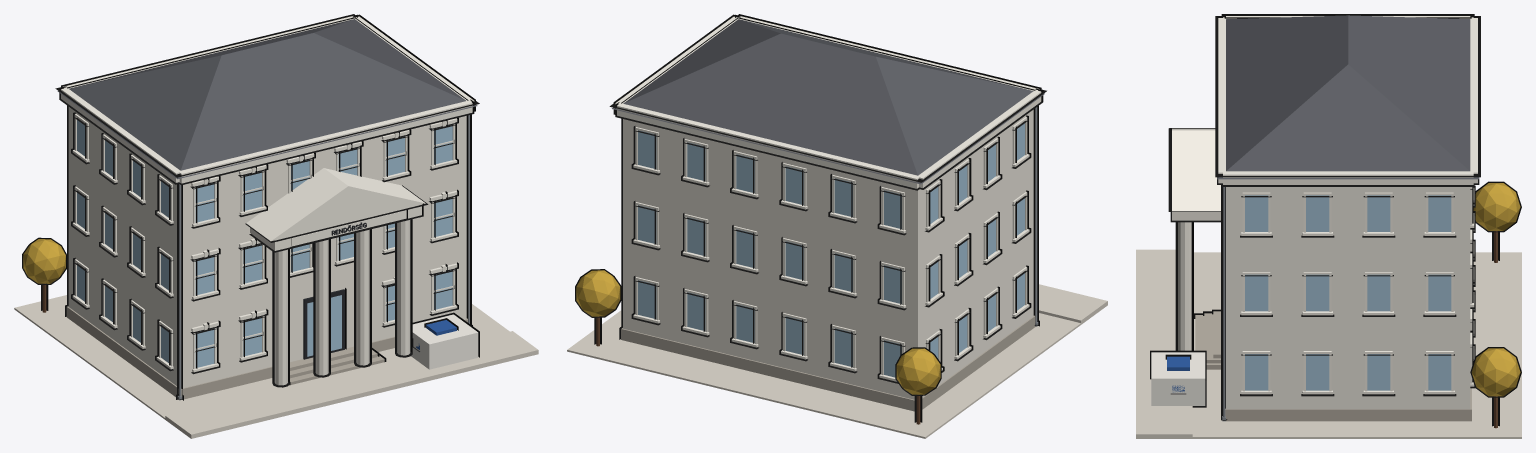
Rendered from Kamu_polis_1.fbx.
The picture shows the model from 3 angles, left to right: view 1: azimuth 30°, elevation 25°; view 2: azimuth 150°, elevation 25°; view 3: azimuth 270°, elevation 25°; orthographic projection. The views are drawn at different scales.
Parts seen in each view (by area): view 1: Kamu_polis_1; view 2: Kamu_polis_1; view 3: Kamu_polis_1.
Boxes of the visible parts, x1,y1,x2,y2 form: Kamu_polis_1: [14, 14, 538, 438]; Kamu_polis_1: [567, 14, 1107, 438]; Kamu_polis_1: [1136, 14, 1521, 438].
Bounding box in the file's own units: 17.21 × 13.21 × 15.
